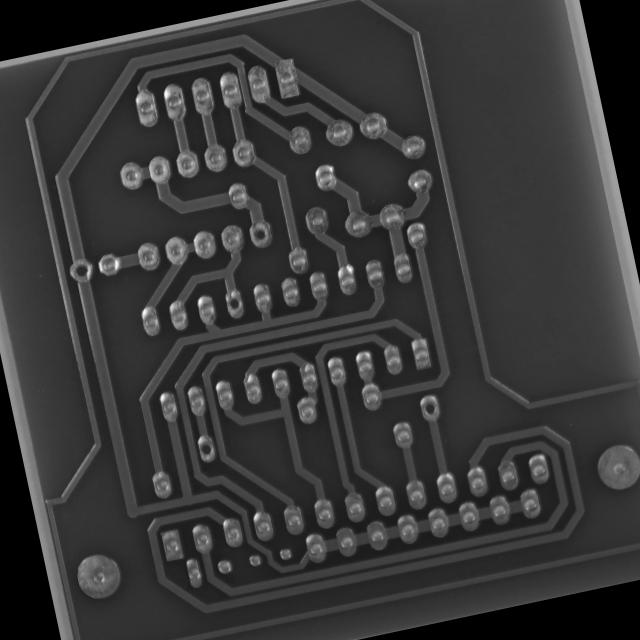missing_hole: (245, 218, 277, 250), (65, 256, 96, 284), (416, 394, 444, 422), (222, 291, 246, 317), (194, 436, 218, 462)
